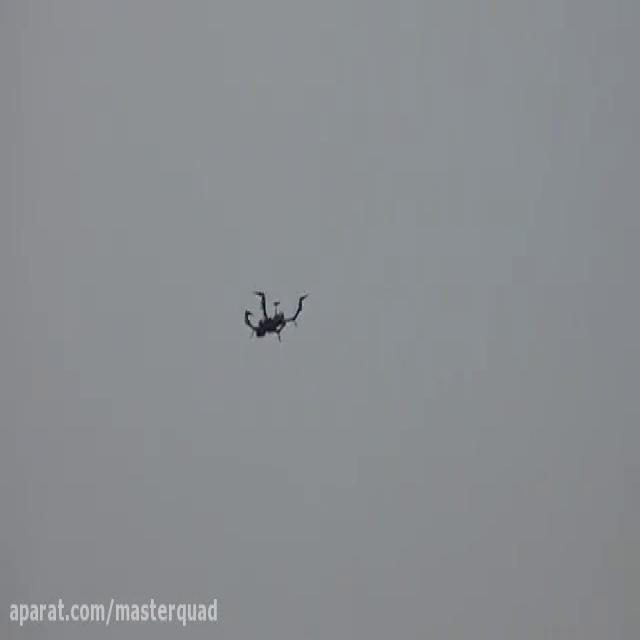drone: (239, 279, 315, 345)
